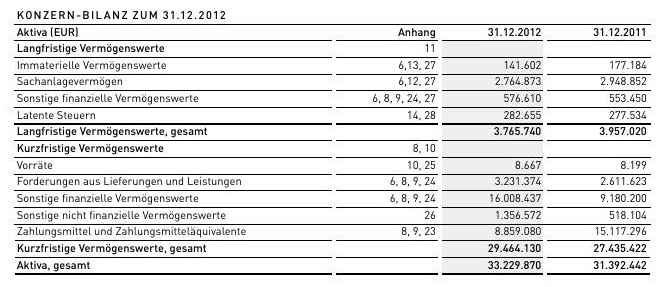table: (0, 0, 663, 287)
